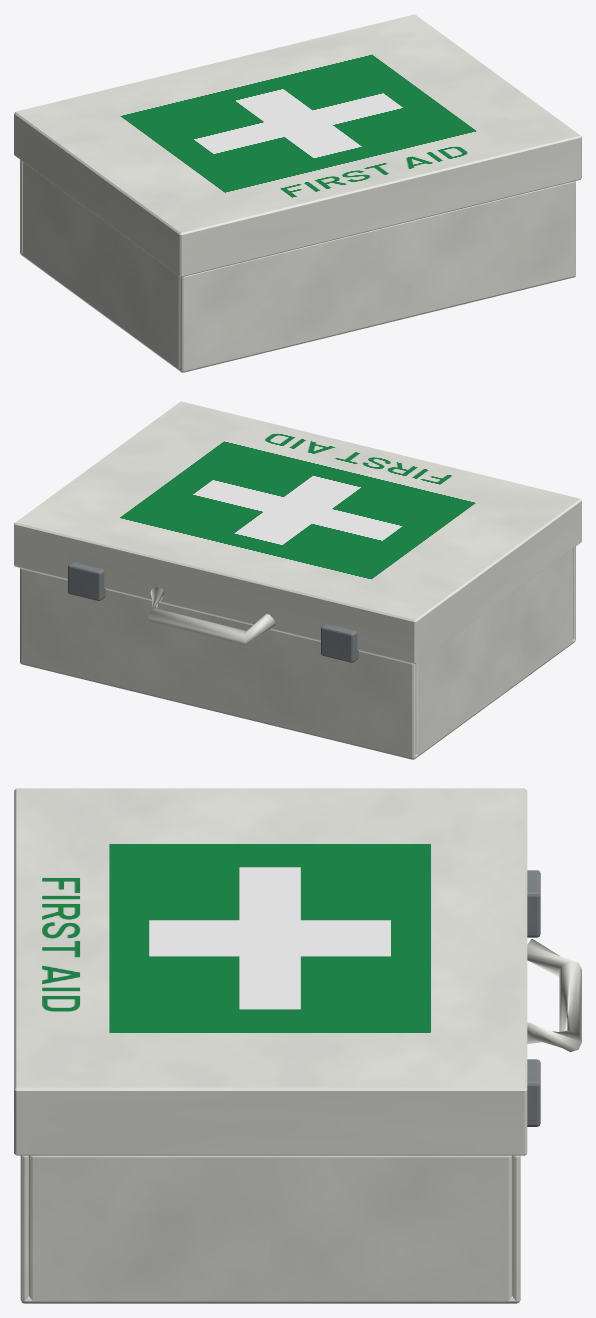
Rendered from lootbox_medcase.glb.
3 views of the same model, one above another, from view 1: azimuth 30°, elevation 25°; view 2: azimuth 150°, elevation 25°; view 3: azimuth 270°, elevation 25° (orthographic). The views are drawn at different scales.
Parts seen in each view (by area): view 1: lid, mc_back, mc_left, mc_floor; view 2: lid, mc_front, mc_left, handle, mc_floor, latch1, latch-1; view 3: lid, mc_right, handle, mc_floor, mc_back, mc_front, latch-1, latch1.
Part boxes in pixels (bbox=[...]): lid: bbox=[14, 14, 581, 276]; mc_back: bbox=[180, 181, 575, 372]; mc_left: bbox=[22, 162, 180, 369]; mc_floor: bbox=[20, 252, 575, 372]; lid: bbox=[14, 401, 581, 663]; mc_front: bbox=[20, 568, 415, 758]; mc_left: bbox=[415, 549, 573, 755]; handle: bbox=[148, 587, 275, 644]; mc_floor: bbox=[20, 639, 575, 759]; latch1: bbox=[68, 562, 105, 600]; latch-1: bbox=[321, 623, 358, 662]; lid: bbox=[14, 788, 527, 1155]; mc_right: bbox=[29, 1155, 512, 1303]; handle: bbox=[527, 939, 581, 1051]; mc_floor: bbox=[20, 1296, 520, 1303]; mc_back: bbox=[20, 1155, 28, 1303]; mc_front: bbox=[512, 1155, 520, 1302]; latch-1: bbox=[527, 870, 540, 937]; latch1: bbox=[527, 1059, 540, 1126].
Bounding box in the file's own units: 0.428 × 0.145 × 0.3408.
Materials: 3 (3 with a texture image).
